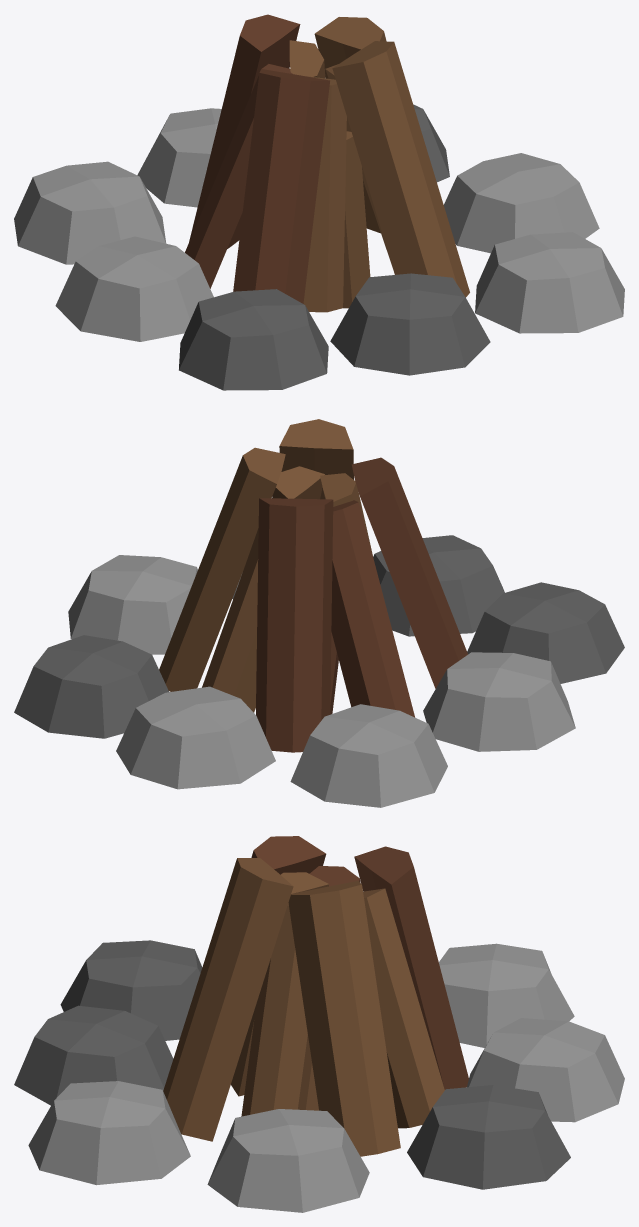
File: BonFire.fbx
3 views of the same model, one above another, from view 1: azimuth 30°, elevation 25°; view 2: azimuth 150°, elevation 25°; view 3: azimuth 270°, elevation 25° (orthographic). The views are drawn at different scales.
Parts seen in each view (by area): view 1: Bonfire; view 2: Bonfire; view 3: Bonfire.
Part boxes in pixels (x1,y1,x2,y2): Bonfire: (14, 14, 624, 390); Bonfire: (14, 419, 624, 807); Bonfire: (14, 836, 624, 1212).
Size of the model in its own units: 0.8648 by 0.4382 by 0.8791.
1 material, 1 textured.
